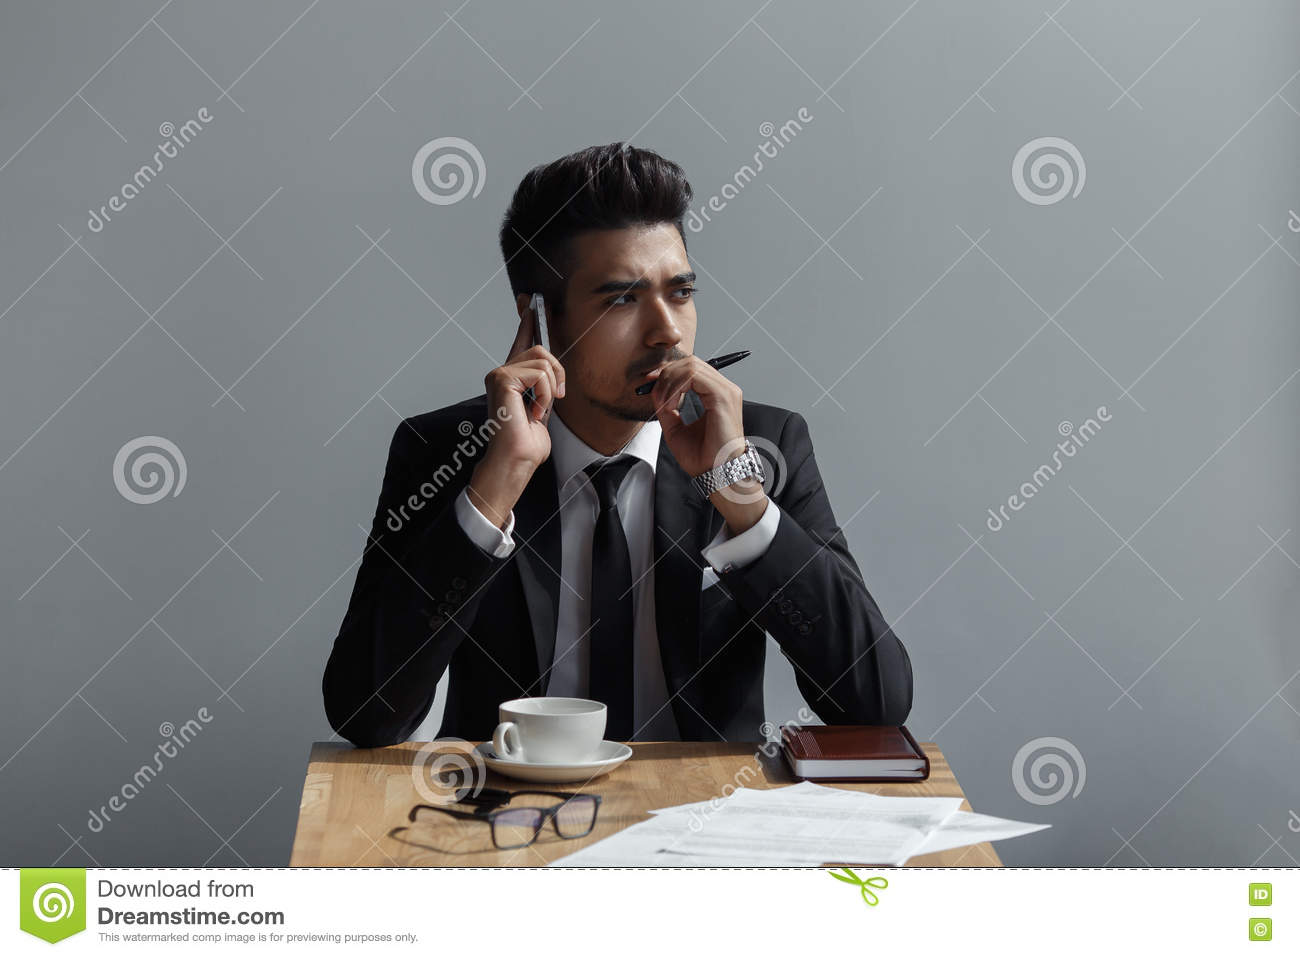phone: (522, 296, 562, 424)
talk: (479, 260, 698, 484)
